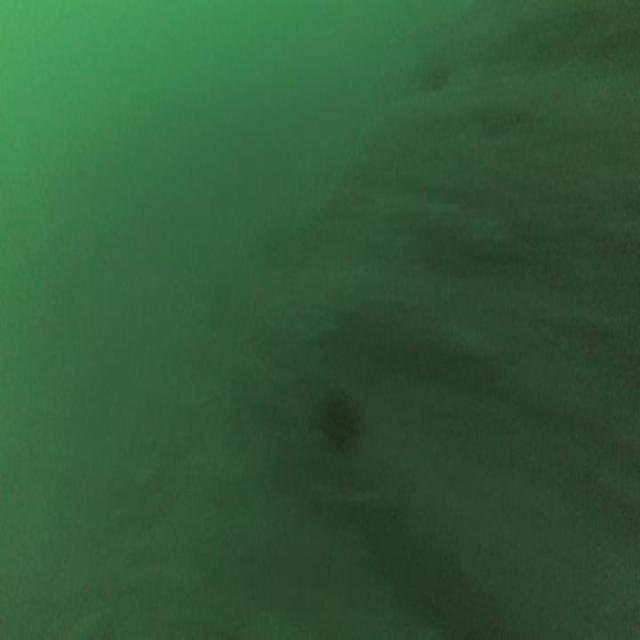echinus: (315, 381, 359, 461)
